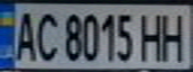0: (81, 9, 100, 62)
1: (97, 9, 118, 61)
5: (115, 9, 139, 61)
8: (60, 9, 84, 62)
A: (9, 7, 39, 62)
C: (33, 8, 60, 62)
H: (157, 8, 190, 62), (136, 9, 169, 62)
